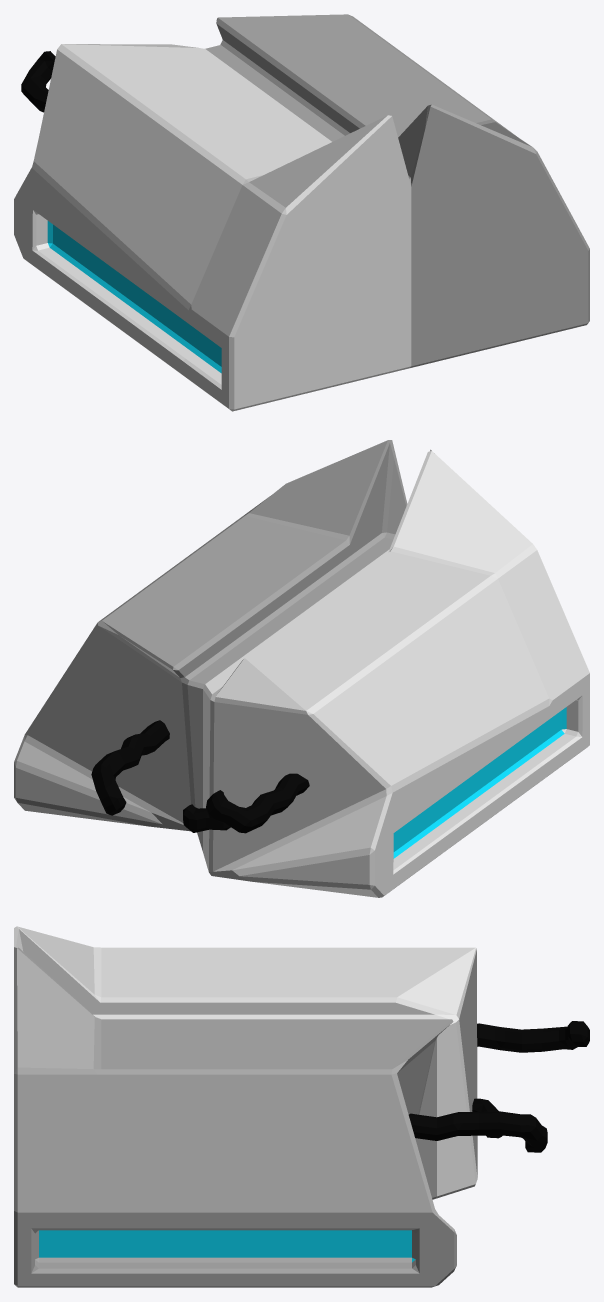
Rendered from Wall_FenetreBrokenBottomPart1.fbx.
3 renders of one model, top to bottom at view 1: azimuth 30°, elevation 25°; view 2: azimuth 150°, elevation 25°; view 3: azimuth 270°, elevation 25°, orthographic.
Parts seen in each view (by area): view 1: Wall_FenetreBrokenBottomPart1, MetalTubeTordu.002; view 2: Wall_FenetreBrokenBottomPart1, MetalTubeTordu.001, MetalTubeTordu.002, MetalTubeTordu.003; view 3: Wall_FenetreBrokenBottomPart1, MetalTubeTordu.001, MetalTubeTordu.002.
Part boxes in pixels (x1,y1,x2,y2): Wall_FenetreBrokenBottomPart1: (14,14,589,411); MetalTubeTordu.002: (21,51,55,112); Wall_FenetreBrokenBottomPart1: (14,440,589,897); MetalTubeTordu.001: (91,720,169,815); MetalTubeTordu.002: (206,773,309,833); MetalTubeTordu.003: (183,804,230,832); Wall_FenetreBrokenBottomPart1: (14,926,477,1287); MetalTubeTordu.001: (408,1111,547,1152); MetalTubeTordu.002: (477,1021,589,1052).
Bounding box in the file's own units: 200 × 137 × 272.
